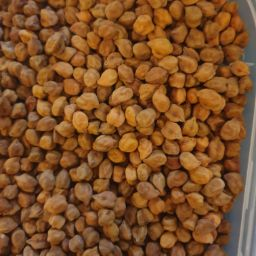Black Chickpeas: (3, 3, 245, 256), (1, 2, 248, 164), (1, 154, 236, 254)
